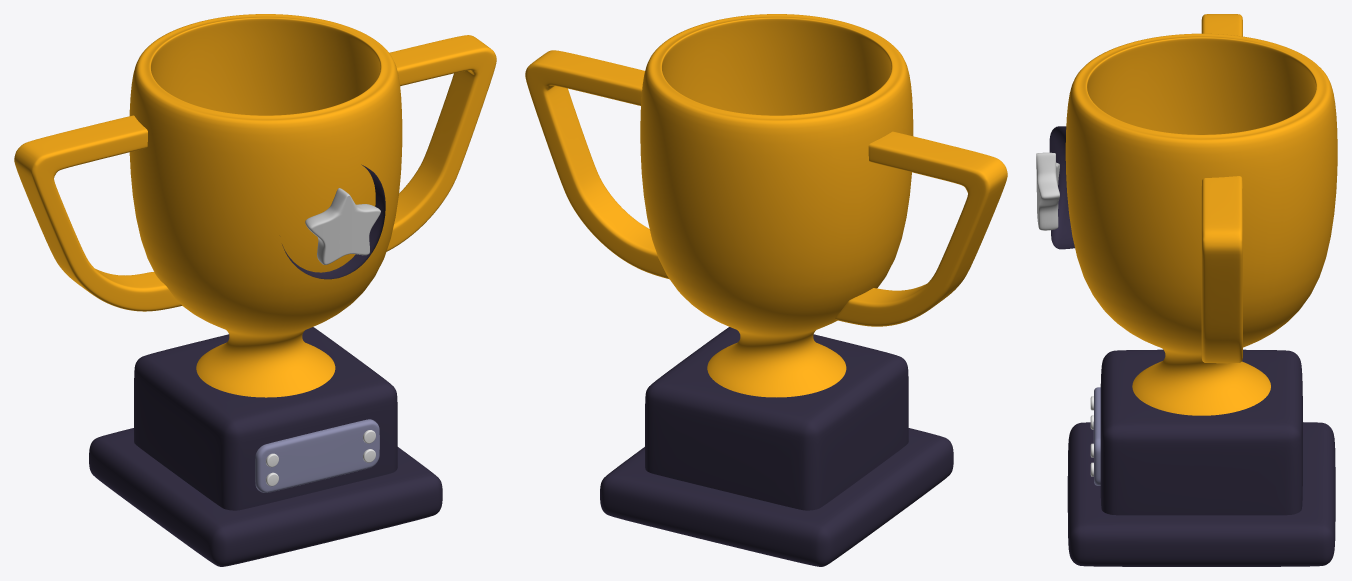
Rendered from challenge-animated-3d-icon-376883018385.glb.
3 views of the same model, side by side, from view 1: azimuth 30°, elevation 25°; view 2: azimuth 150°, elevation 25°; view 3: azimuth 270°, elevation 25° (orthographic).
Visible parts, largest first — view 1: Trophy, Cube, Handle, Label, Star, Lock; view 2: Trophy, Cube, Handle; view 3: Trophy, Cube, Handle, Star, Label.
Boxes of the visible parts, box(x1,y1,x2,y2) form: Trophy: box(129, 14, 402, 397); Cube: box(89, 327, 442, 566); Handle: box(14, 35, 496, 311); Label: box(255, 419, 379, 492); Star: box(282, 164, 385, 279); Lock: box(265, 430, 375, 486); Trophy: box(640, 14, 913, 397); Cube: box(600, 327, 953, 566); Handle: box(525, 50, 1007, 326); Trophy: box(1065, 33, 1337, 415); Cube: box(1067, 349, 1335, 566); Handle: box(1201, 14, 1242, 363); Star: box(1036, 126, 1074, 249); Label: box(1093, 387, 1100, 485).
Size of the model in its own units: 3.31 by 2.94 by 1.86.
